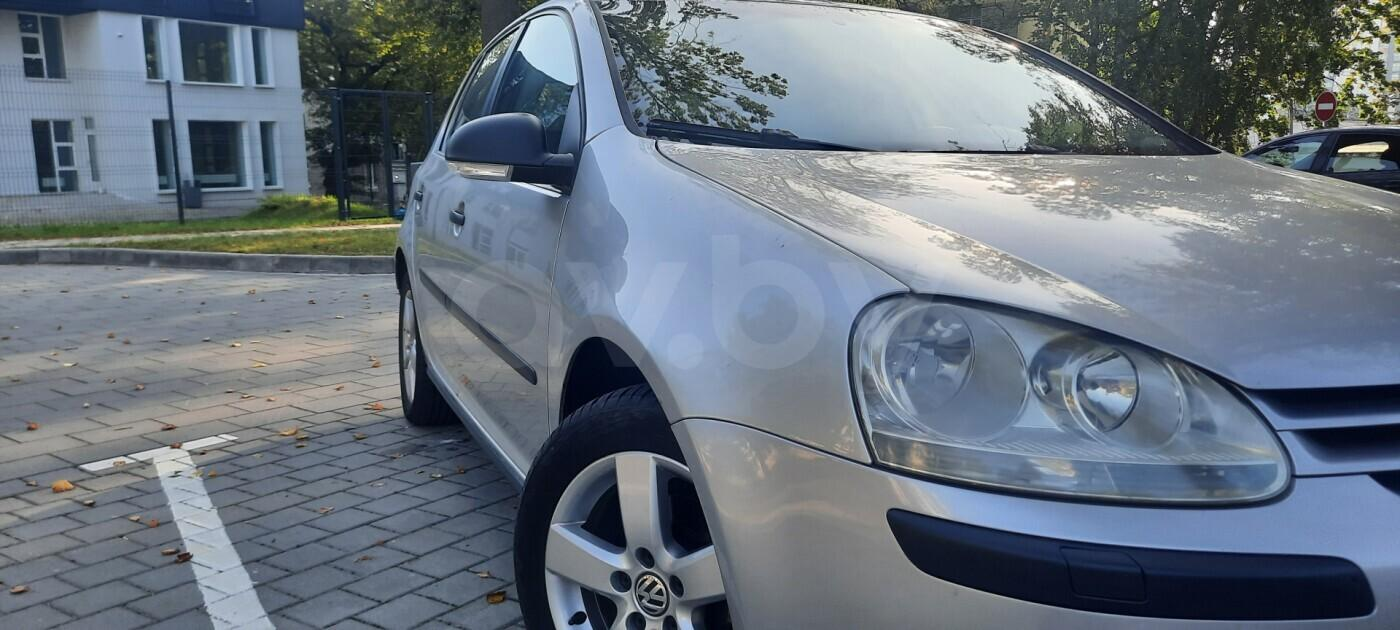Golf_2003-2009: (371, 0, 1400, 630)
